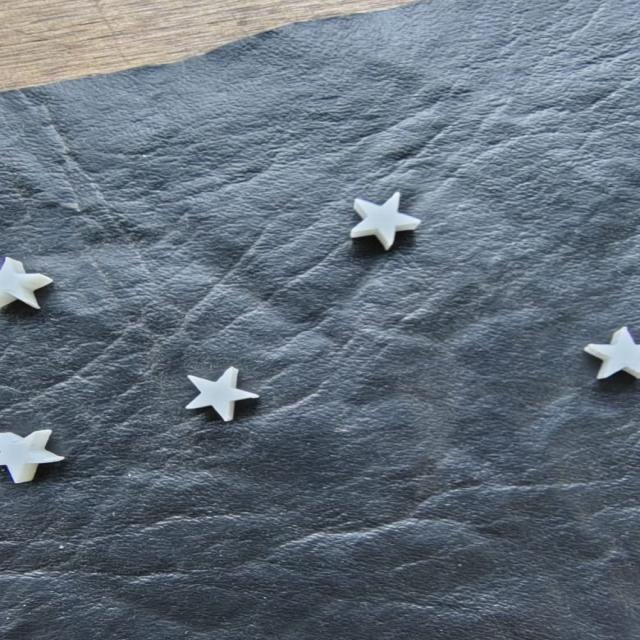estrellas: (187, 368, 254, 420), (354, 195, 419, 243)
